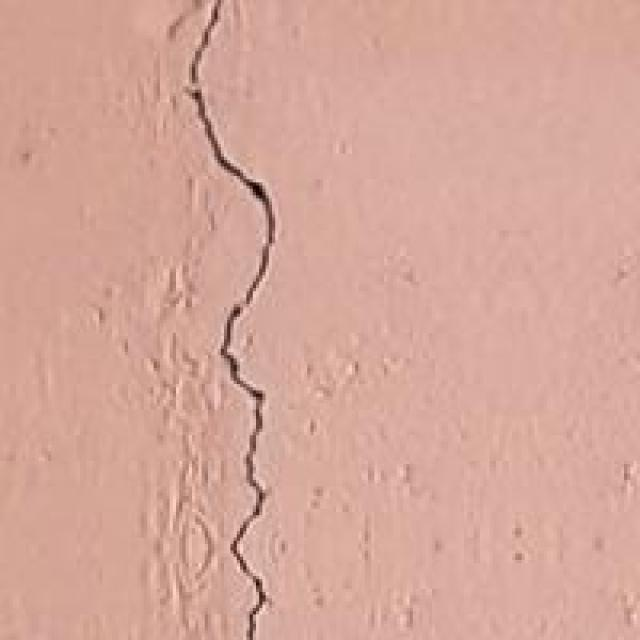crack: (86, 0, 336, 637)
